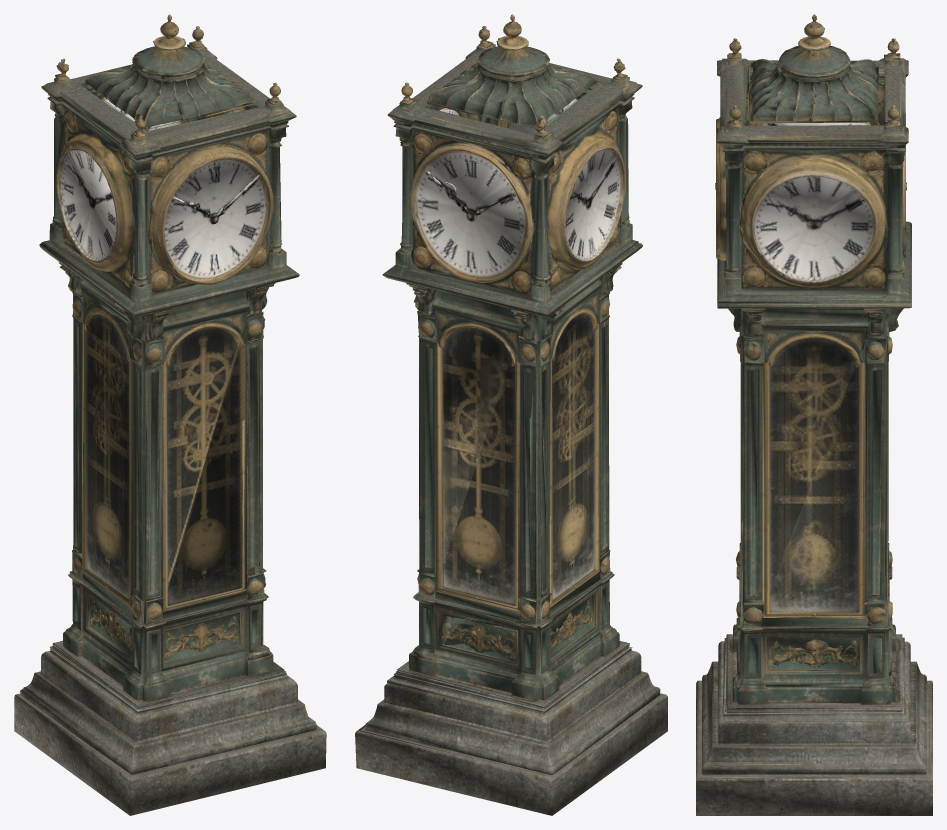
Rendered from skyways-d-lm-clock.glb.
3 renders of one model, left to right at view 1: azimuth 30°, elevation 25°; view 2: azimuth 150°, elevation 25°; view 3: azimuth 270°, elevation 25°, orthographic. The views are drawn at different scales.
Parts seen in each view (by area): view 1: skyways-d-lm-clock; view 2: skyways-d-lm-clock; view 3: skyways-d-lm-clock.
Boxes of the visible parts, x1=… form: skyways-d-lm-clock: x1=14, y1=14, x2=326, y2=815; skyways-d-lm-clock: x1=355, y1=14, x2=667, y2=815; skyways-d-lm-clock: x1=696, y1=14, x2=932, y2=815.
Bounding box in the file's own units: 1.57 × 5.6 × 1.6.
1 material, 1 textured.
